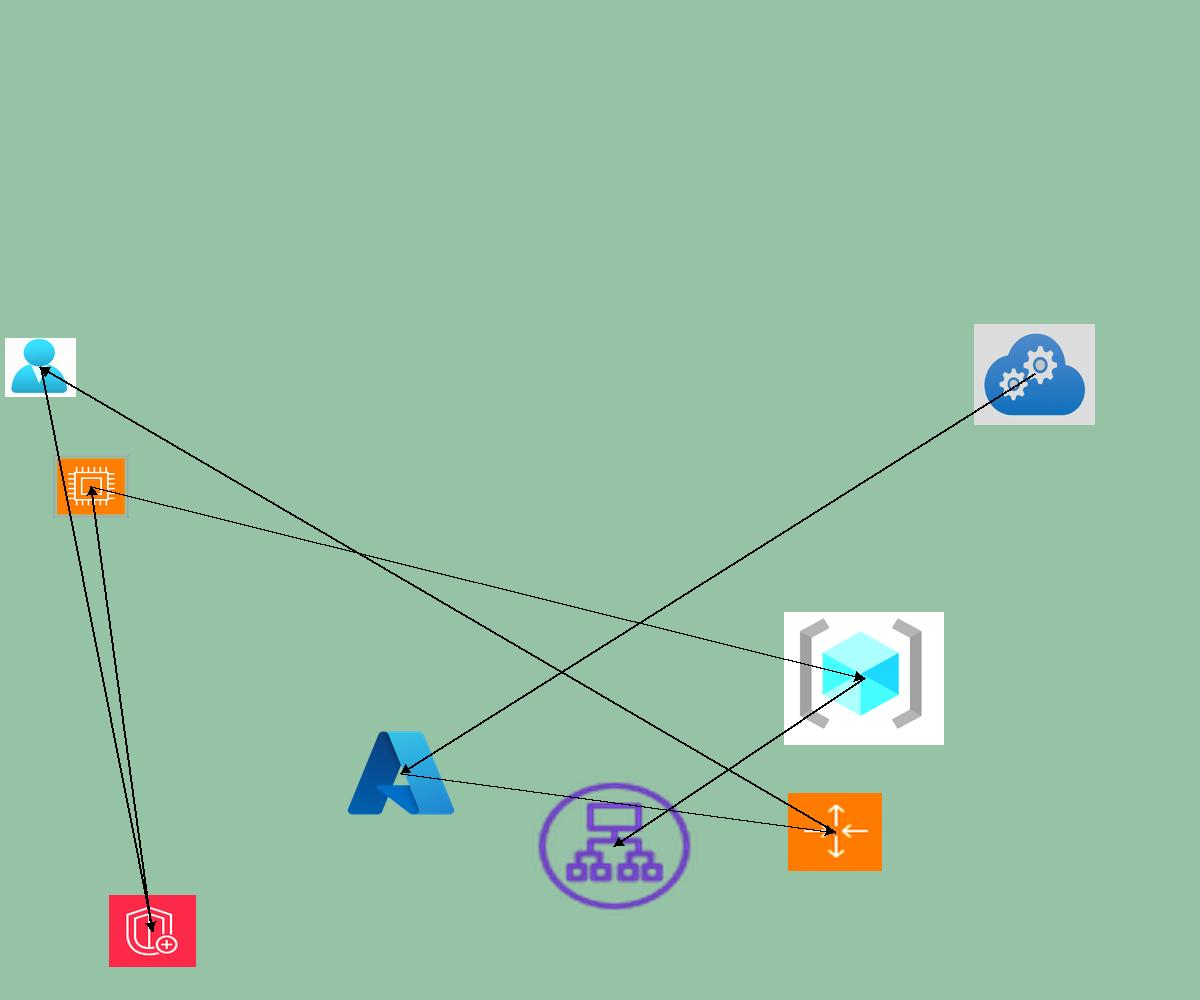AWS-Category_Compute: (53, 455, 129, 518)
AWS-Res_Elastic-Load-Balancing_Application-Load-Balancer: (532, 777, 697, 915)
AWS-Scaling-group: (788, 793, 882, 871)
AWS-Shield: (109, 895, 196, 967)
Azure_cloud_services: (974, 324, 1095, 425)
Azure_resource_group: (784, 612, 944, 745)
Azure_services: (343, 725, 459, 821)
Azure_users: (5, 338, 76, 397)
